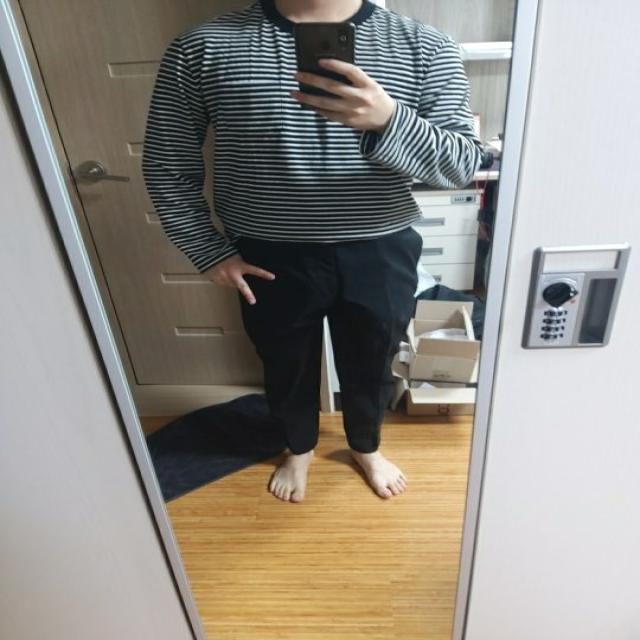longsleeve: (140, 3, 484, 276)
slacks: (235, 223, 419, 454)
